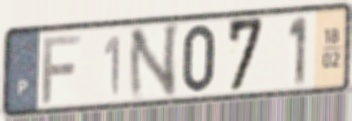0: (180, 22, 218, 94)
1: (287, 13, 310, 88), (103, 33, 121, 97)
7: (225, 15, 266, 95)
F: (40, 32, 84, 106)
N: (127, 20, 182, 104)
